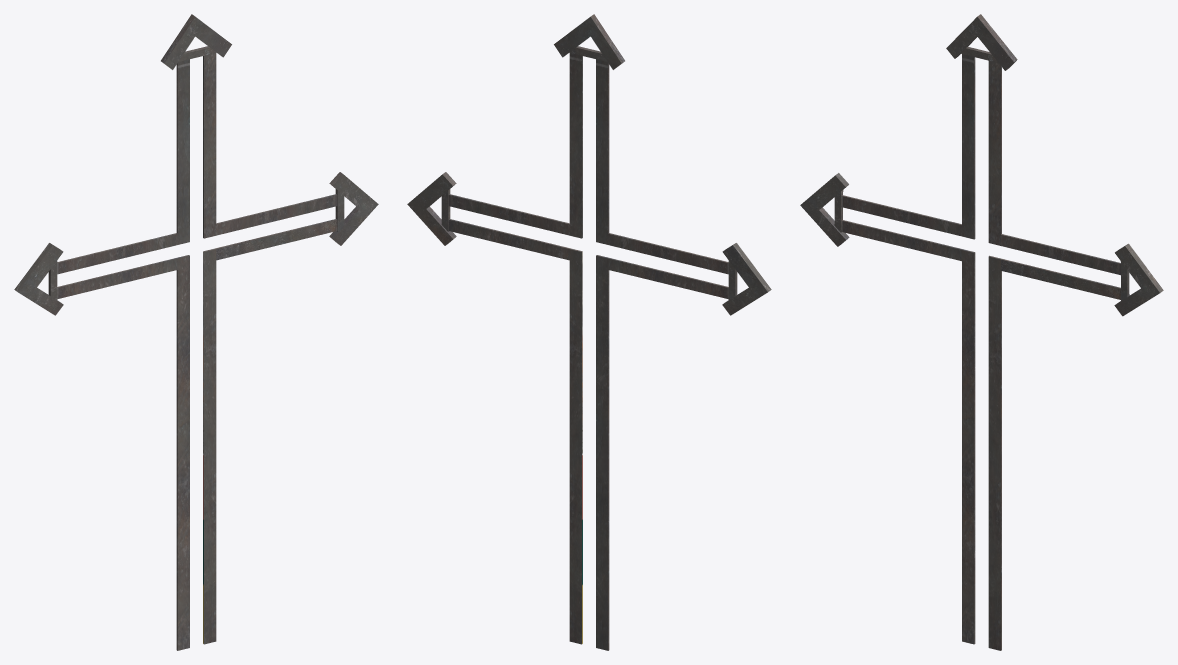
The model's file is ChurchCross.fbx.
The picture shows the model from 3 angles, left to right: view 1: azimuth 30°, elevation 25°; view 2: azimuth 150°, elevation 25°; view 3: azimuth 330°, elevation 25°; orthographic projection.
Parts seen in each view (by area): view 1: ChurchCross; view 2: ChurchCross; view 3: ChurchCross.
Part boxes in pixels (x1,y1,x2,y2): ChurchCross: [14, 14, 378, 650]; ChurchCross: [407, 14, 771, 650]; ChurchCross: [800, 14, 1163, 650].
Bounding box in the file's own units: 65.42 × 109 × 1.14.
Materials: 1 (1 with a texture image).
